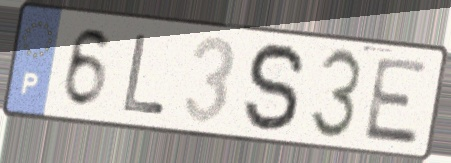3: (181, 34, 243, 130), (307, 45, 365, 143)
6: (60, 26, 114, 112)
E: (360, 54, 433, 148)
L: (120, 31, 169, 118)
S: (241, 40, 308, 136)
